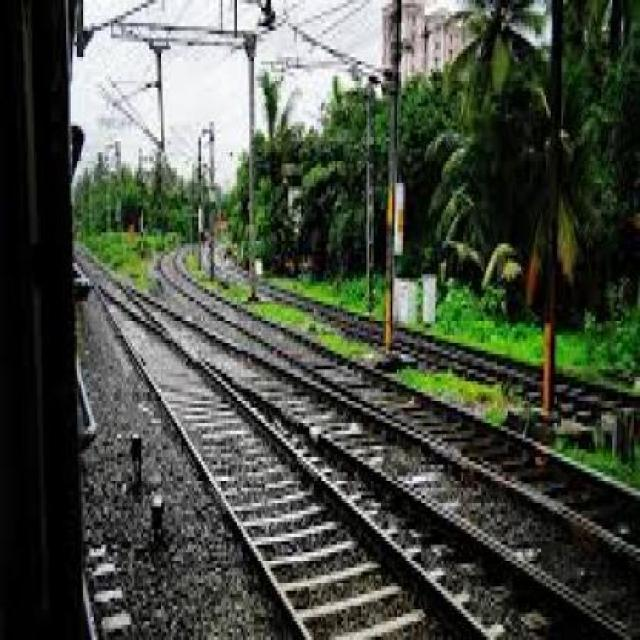rail: (73, 231, 637, 639)
